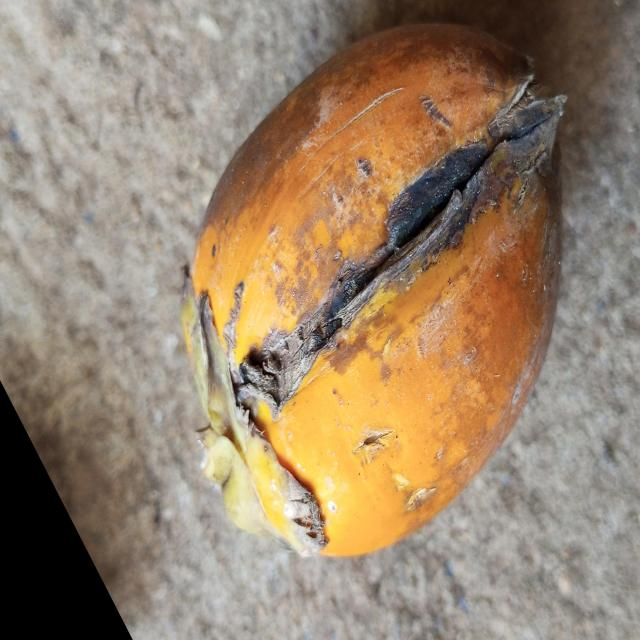damaged: (182, 23, 567, 562)
